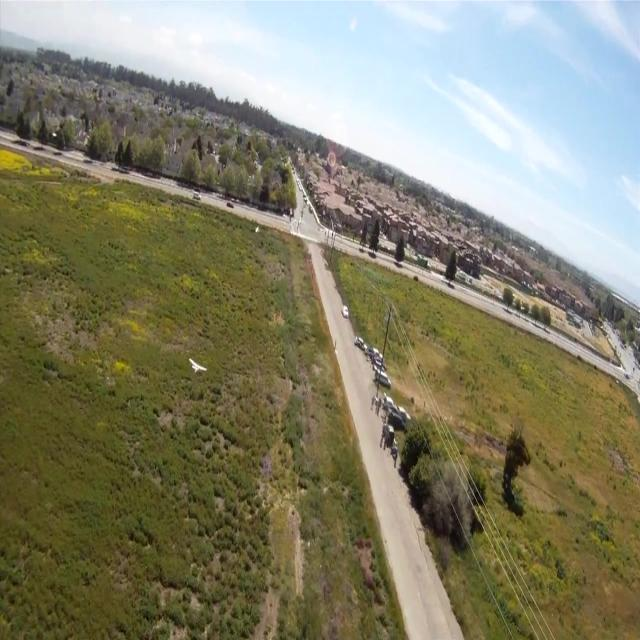iha: (182, 356, 202, 374)
